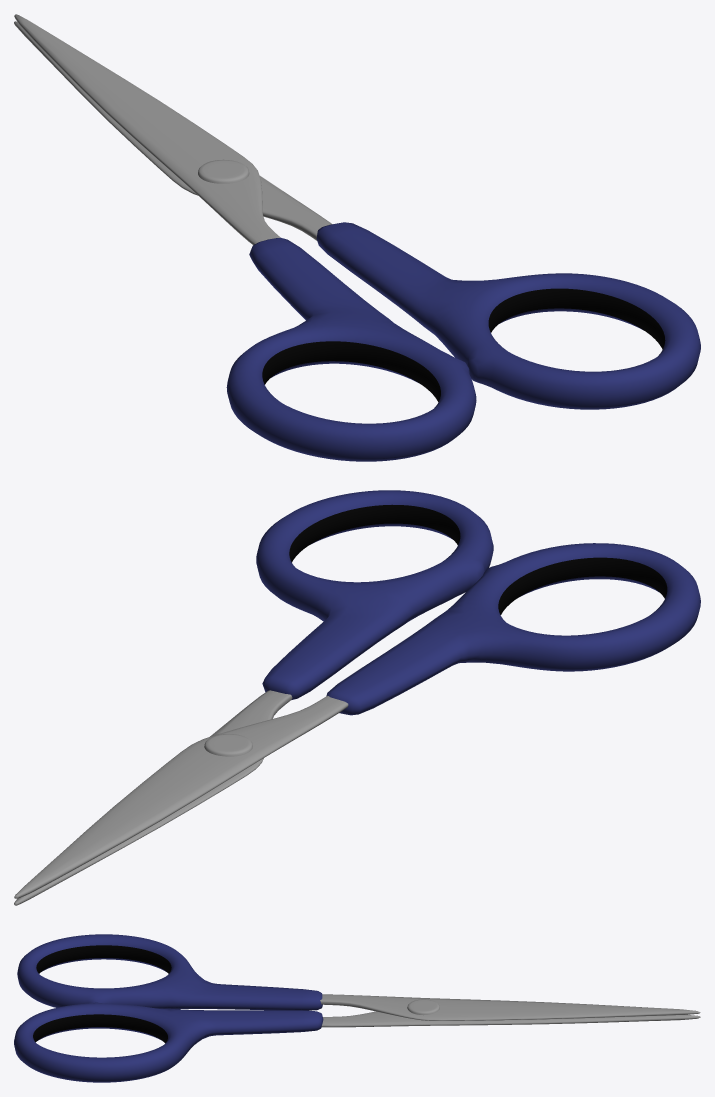
File: ножницы.fbx
The picture shows the model from 3 angles, top to bottom: view 1: azimuth 30°, elevation 25°; view 2: azimuth 150°, elevation 25°; view 3: azimuth 270°, elevation 25°; orthographic projection. The views are drawn at different scales.
Visible parts, largest first — view 1: scissors1, scissors2, pivot; view 2: scissors1, scissors2, pivot; view 3: scissors1, scissors2, pivot.
Part boxes in pixels (bbox=[...]): scissors1: bbox=[14, 14, 476, 461]; scissors2: bbox=[14, 21, 700, 409]; pivot: bbox=[198, 159, 249, 183]; scissors1: bbox=[14, 543, 700, 898]; scissors2: bbox=[14, 490, 493, 905]; pivot: bbox=[204, 734, 252, 756]; scissors1: bbox=[17, 934, 700, 1020]; scissors2: bbox=[14, 1002, 700, 1082]; pivot: bbox=[407, 999, 439, 1015].
Bounding box in the file's own units: 151 × 11.36 × 327.
